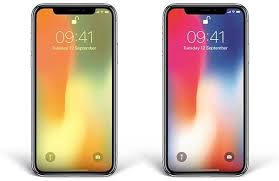iphone: (28, 1, 119, 177), (158, 1, 249, 177)
iphone10: (158, 1, 249, 177), (28, 1, 119, 177)
